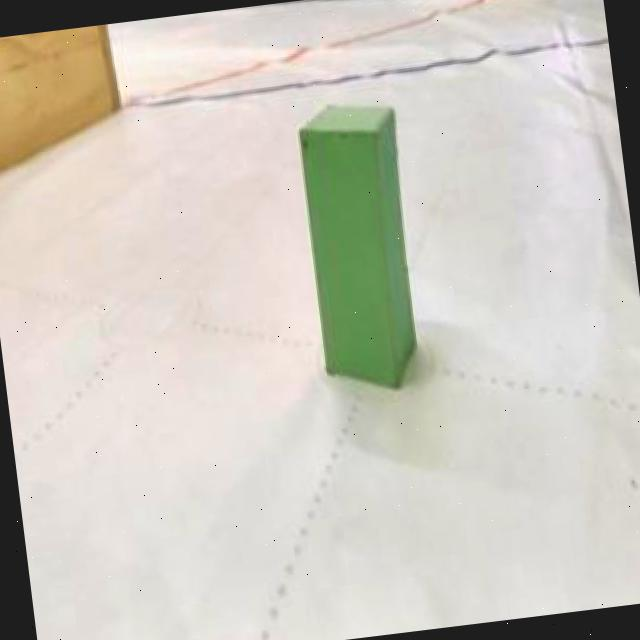greenbox: (294, 95, 428, 398)
